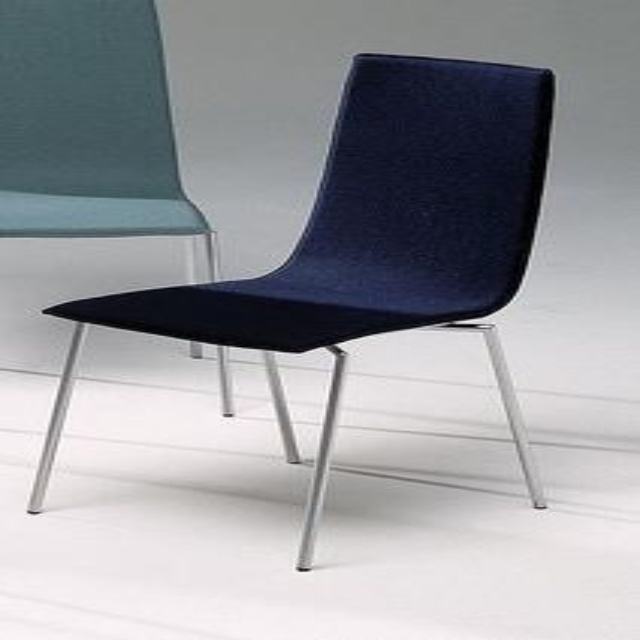obstacle: (27, 53, 549, 569)
